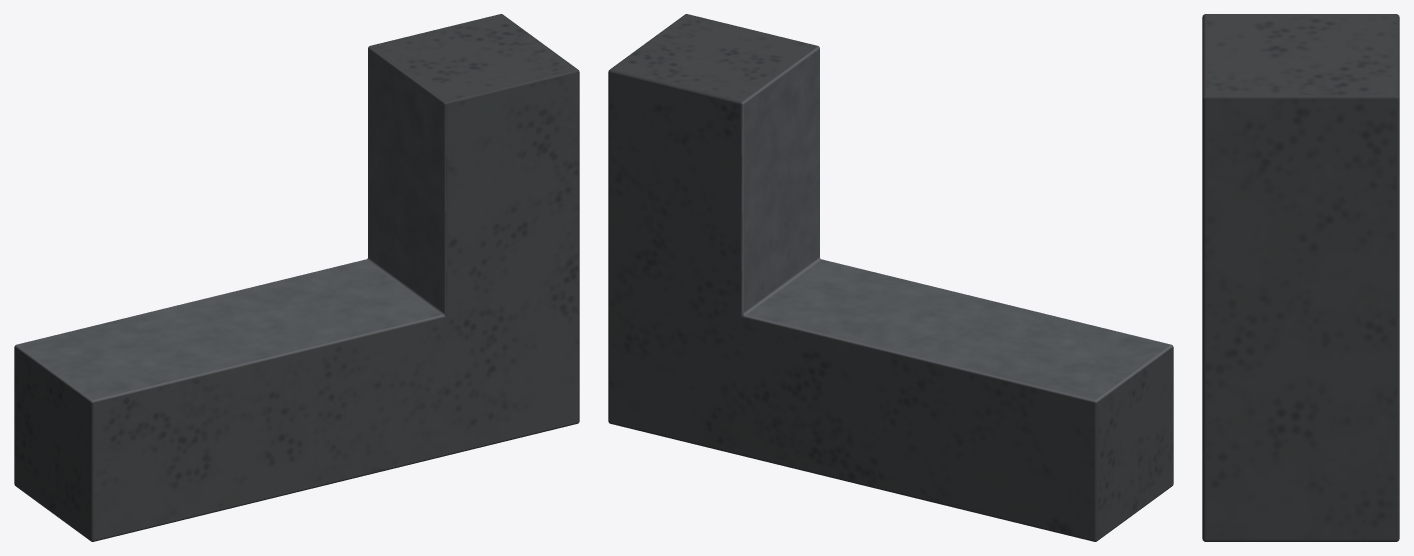
File: B-fine-forged.glb
The picture shows the model from 3 angles, left to right: view 1: azimuth 30°, elevation 25°; view 2: azimuth 150°, elevation 25°; view 3: azimuth 270°, elevation 25°; orthographic projection. The views are drawn at different scales.
Parts seen in each view (by area): view 1: B export coupon; view 2: B export coupon; view 3: B export coupon.
Boxes of the visible parts, <box> form: B export coupon: <box>14,14,579,541</box>; B export coupon: <box>608,14,1173,541</box>; B export coupon: <box>1202,14,1399,541</box>.
Bounding box in the file's own units: 2.6 × 1.8 × 0.72.
Materials: 2 (2 with a texture image).
